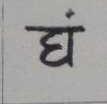anusvara: (67, 10, 73, 17)
